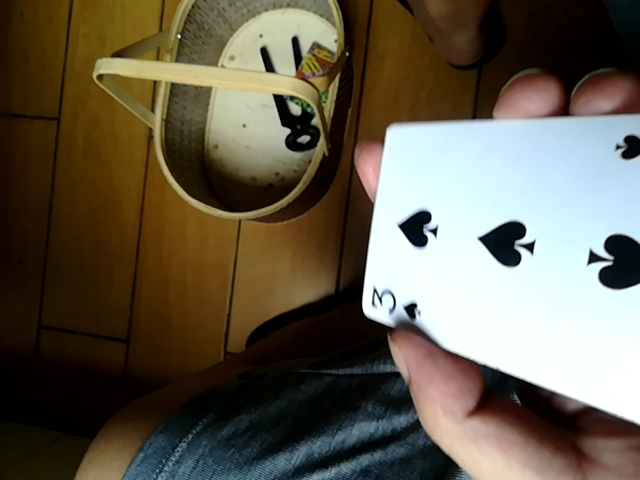ht 3: (365, 98, 639, 431)
